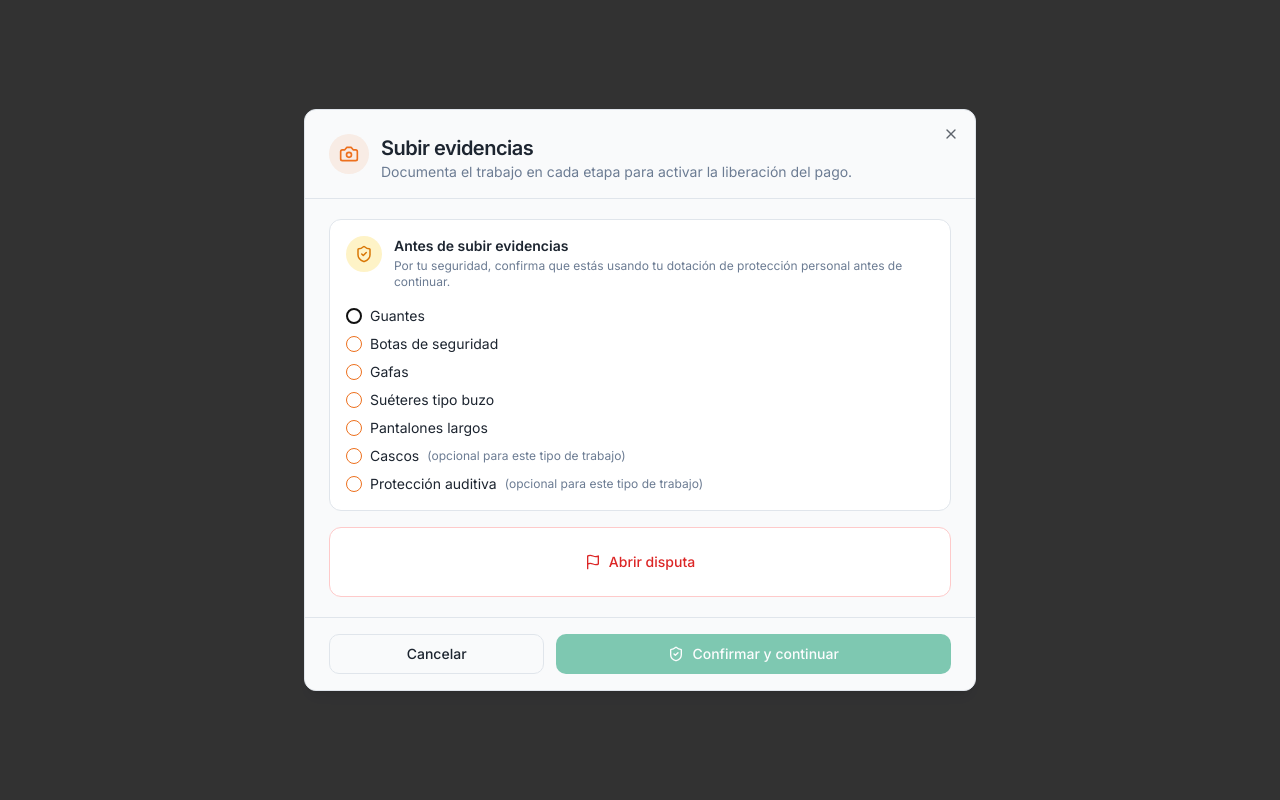
Test: EvidenciasUploadDialog - checklist de EPP › con un tipo de bajo riesgo (pintura), no marcar casco ni protección auditiva igual habilita el botón
Check: the text "Antes de subir evidencias" is shown, box [394,237,568,254]
Click the checkbox next to "Guantes": {"x": 354, "y": 316} [346,308,362,324]
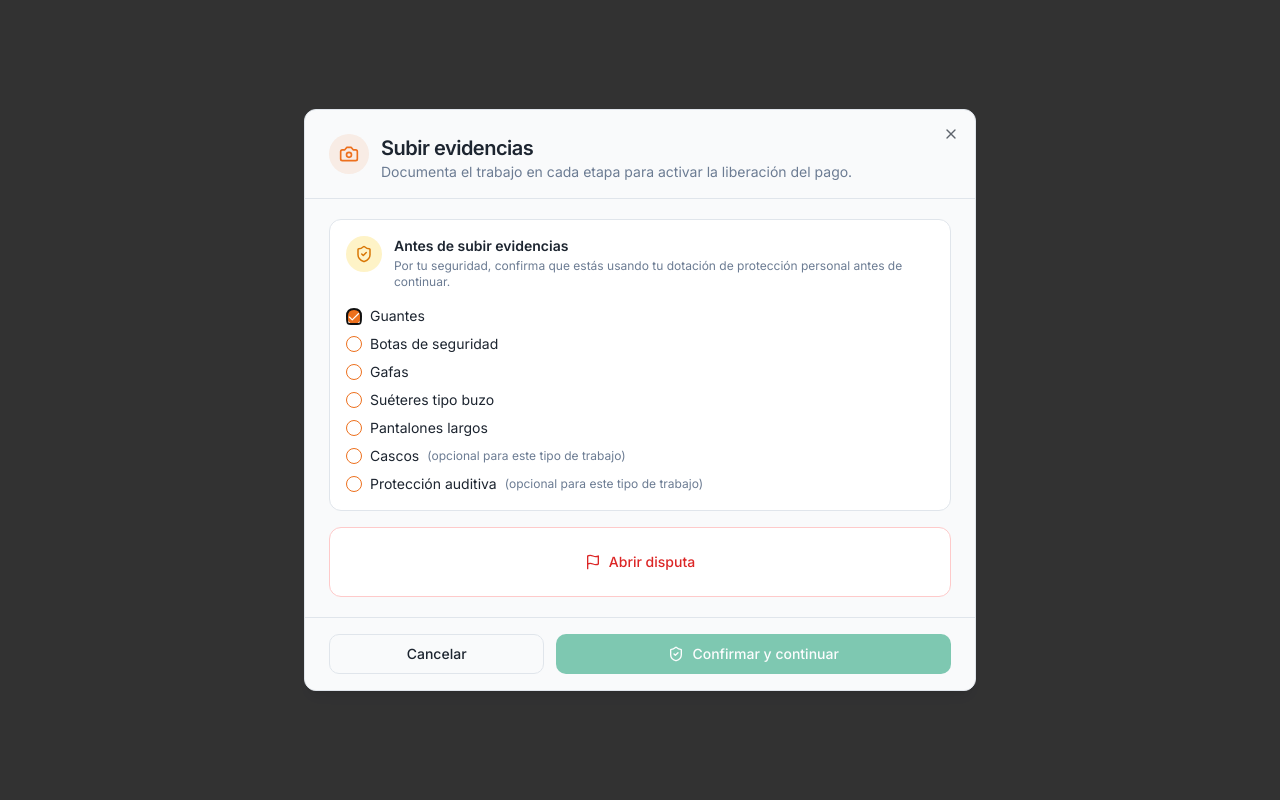
Click the checkbox next to "Botas de seguridad": {"x": 354, "y": 344} [346,336,362,352]
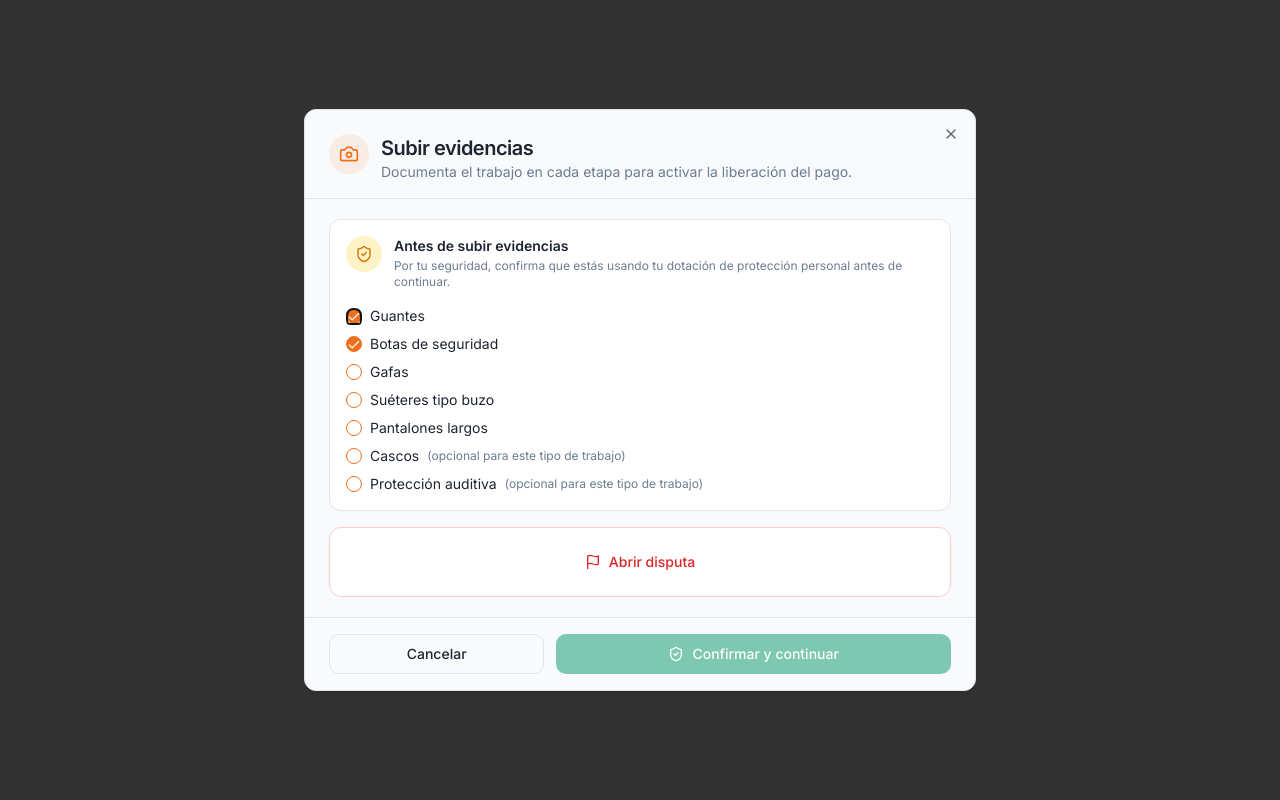
Click the checkbox next to "Gafas": {"x": 354, "y": 372} [346,364,362,380]
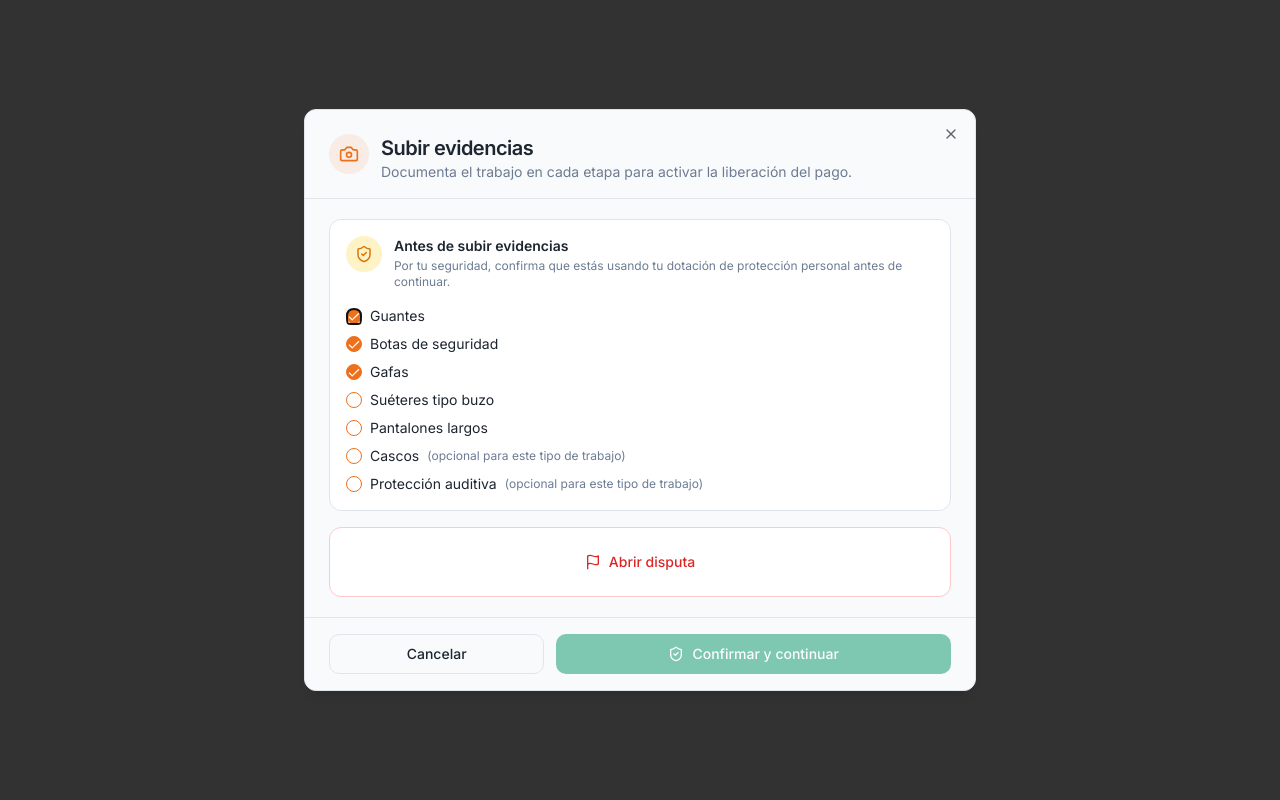
Click the checkbox next to "Suéteres tipo buzo": {"x": 354, "y": 400} [346,392,362,408]
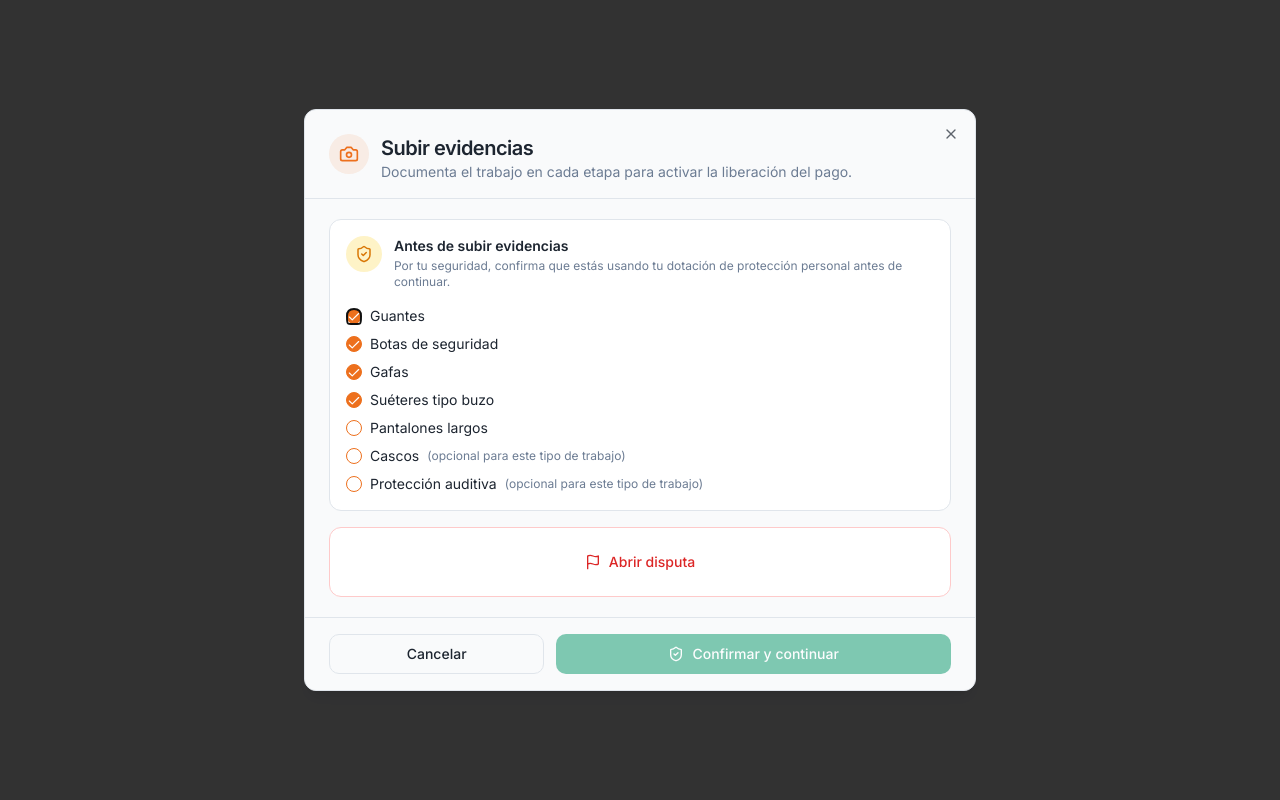
Click the checkbox next to "Pantalones largos": {"x": 354, "y": 428} [346,420,362,436]
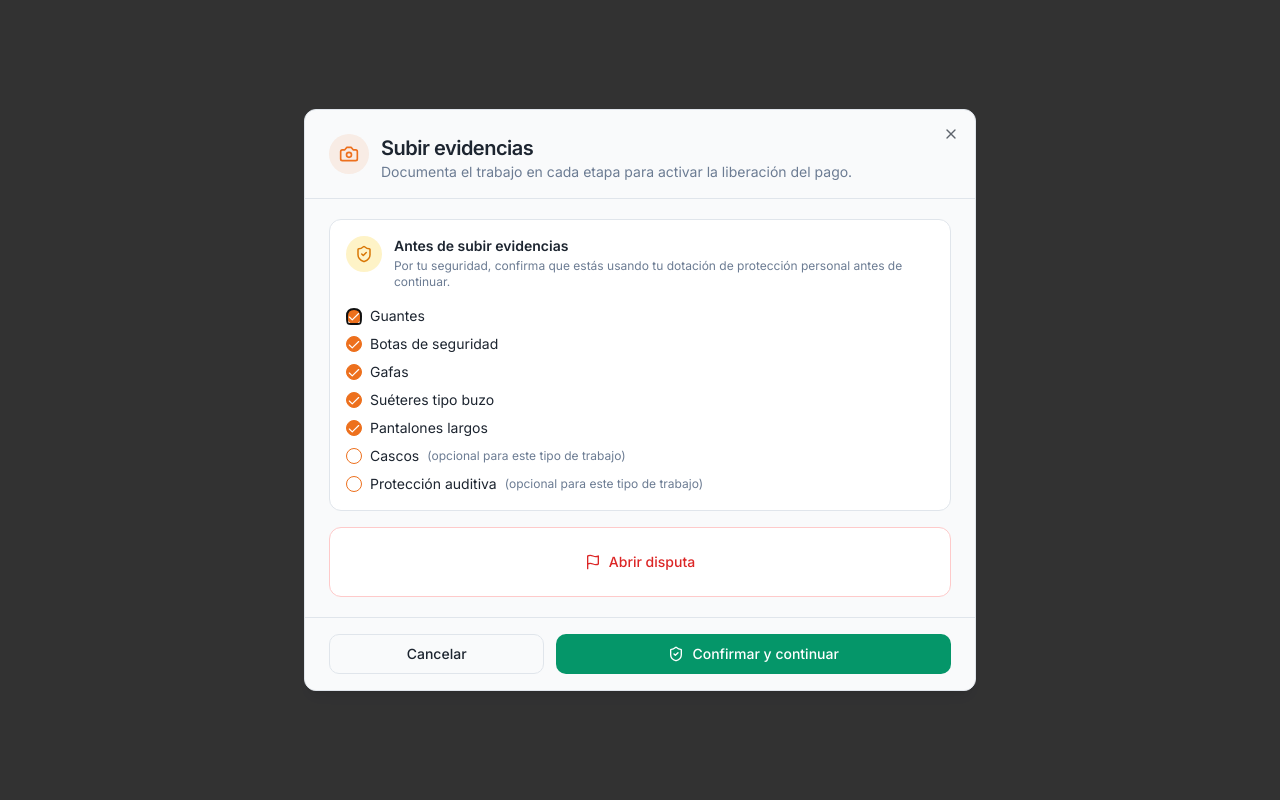
Check: the button "Confirmar y continuar" is enabled, box [556,634,951,674]
